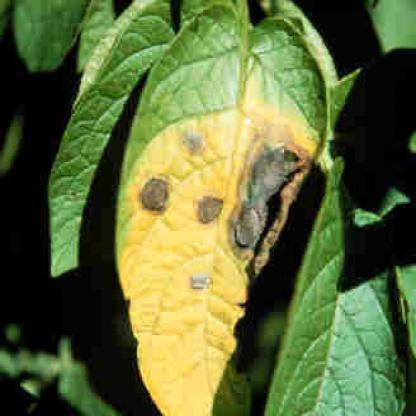potato leaf early blight: (122, 6, 341, 415)
